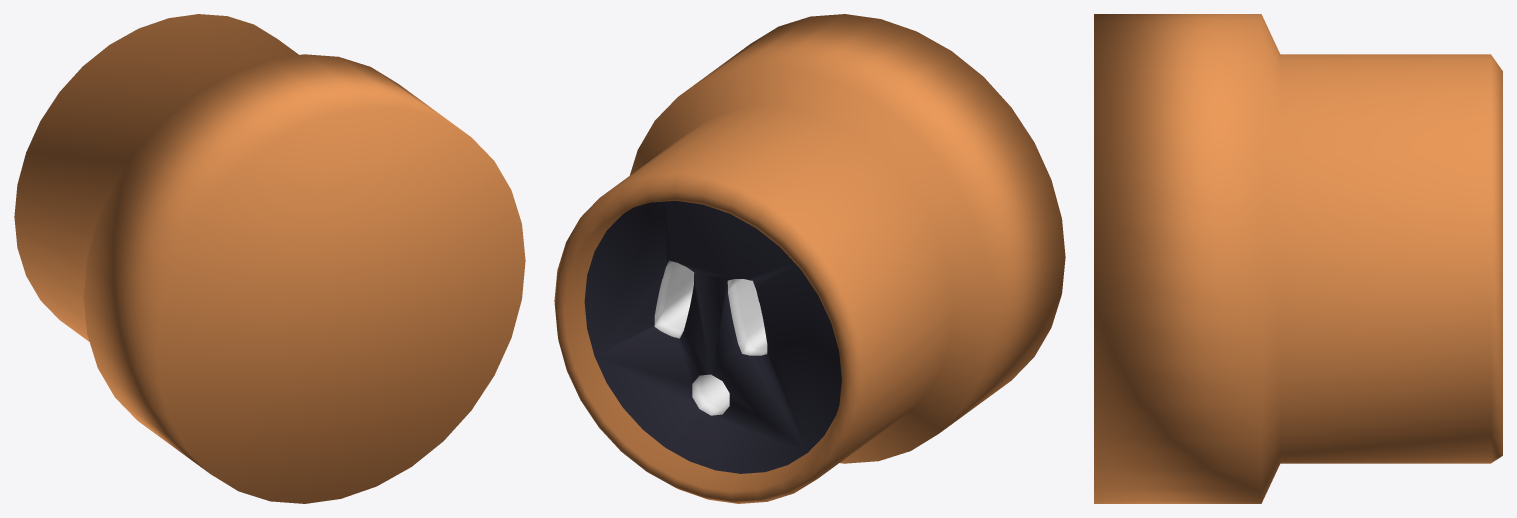
Rendered from Socket.glb.
The picture shows the model from 3 angles, left to right: view 1: azimuth 30°, elevation 25°; view 2: azimuth 150°, elevation 25°; view 3: azimuth 270°, elevation 25°; orthographic projection. The views are drawn at different scales.
Parts seen in each view (by area): view 1: Cylinder; view 2: Cylinder; view 3: Cylinder.
Part boxes in pixels (x1,y1,x2,y2): Cylinder: (14, 14, 525, 503); Cylinder: (554, 14, 1065, 503); Cylinder: (1094, 14, 1502, 503).
Size of the model in its own units: 3.61 by 3.61 by 3.01.
